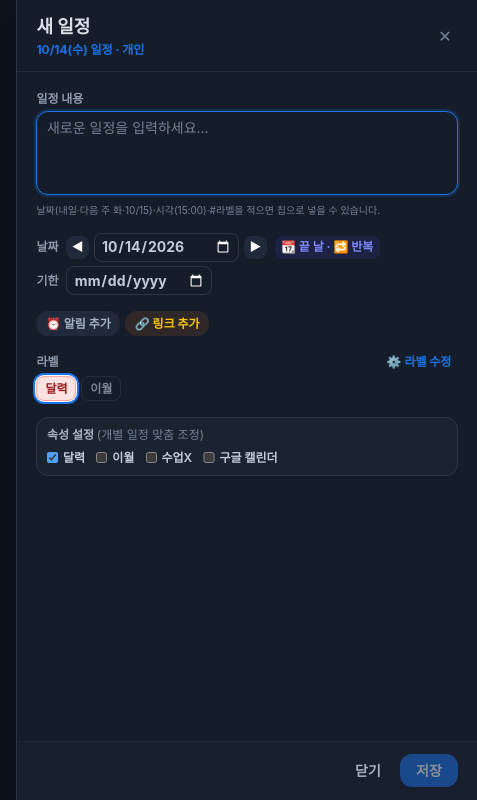
반복 (끝 날 줄의 요일 - P10-1) › 빠른 입력 '격주 금' 칩 → 반복 줄을 편다 (글에서 뺀다)
In the text box with placeholder "새로운 일정을 입력하세요...": (247, 153) [36,111,458,195], type "동아리 격주 금"
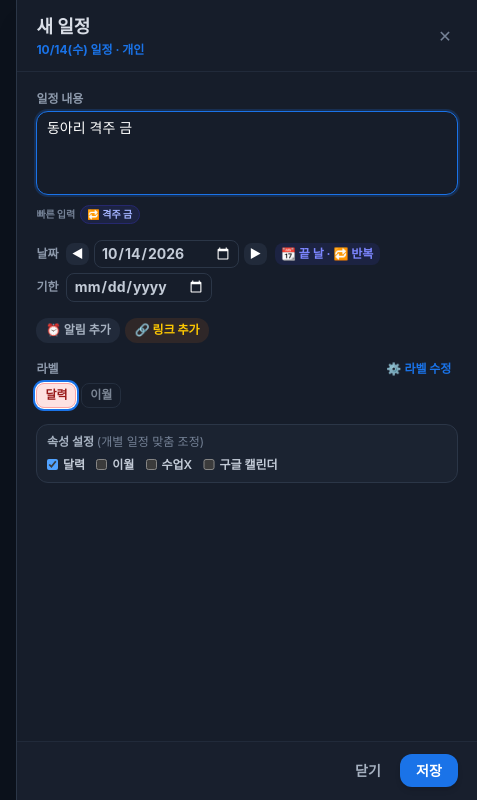
Click the button "🔁 격주 금": (110, 215) [80,205,140,224]
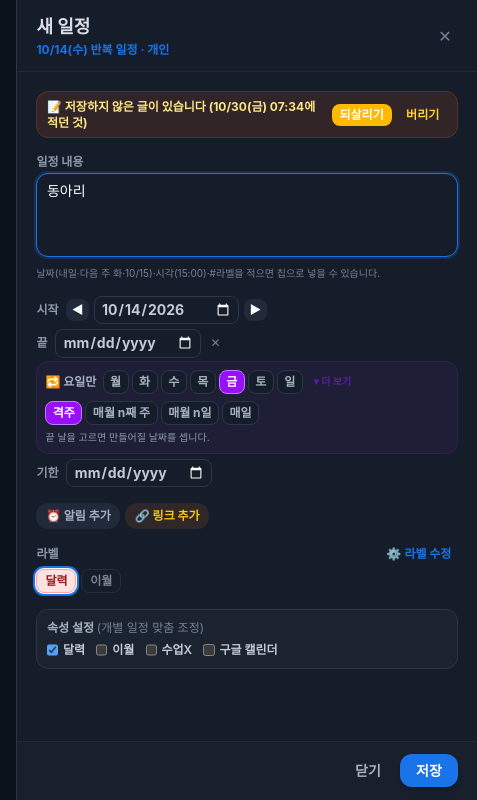
Result: the text box holds "동아리" at [36,173,458,257]
